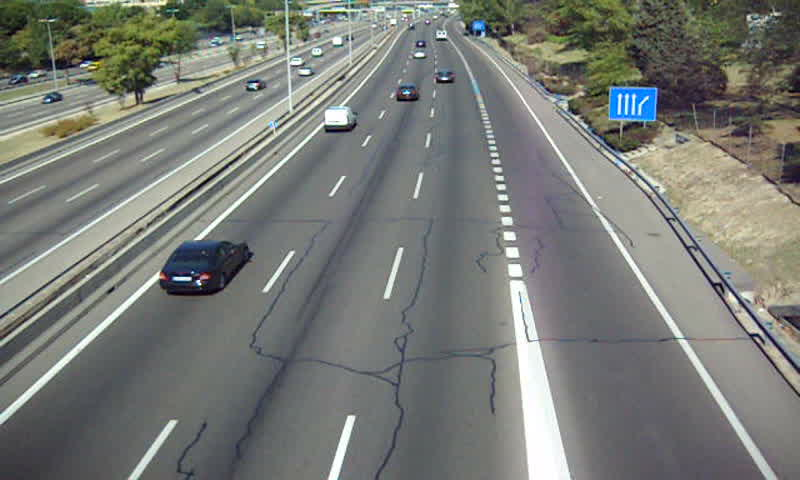car: (158, 240, 249, 293), (395, 82, 422, 103), (434, 68, 455, 86)
van: (323, 107, 358, 132)
